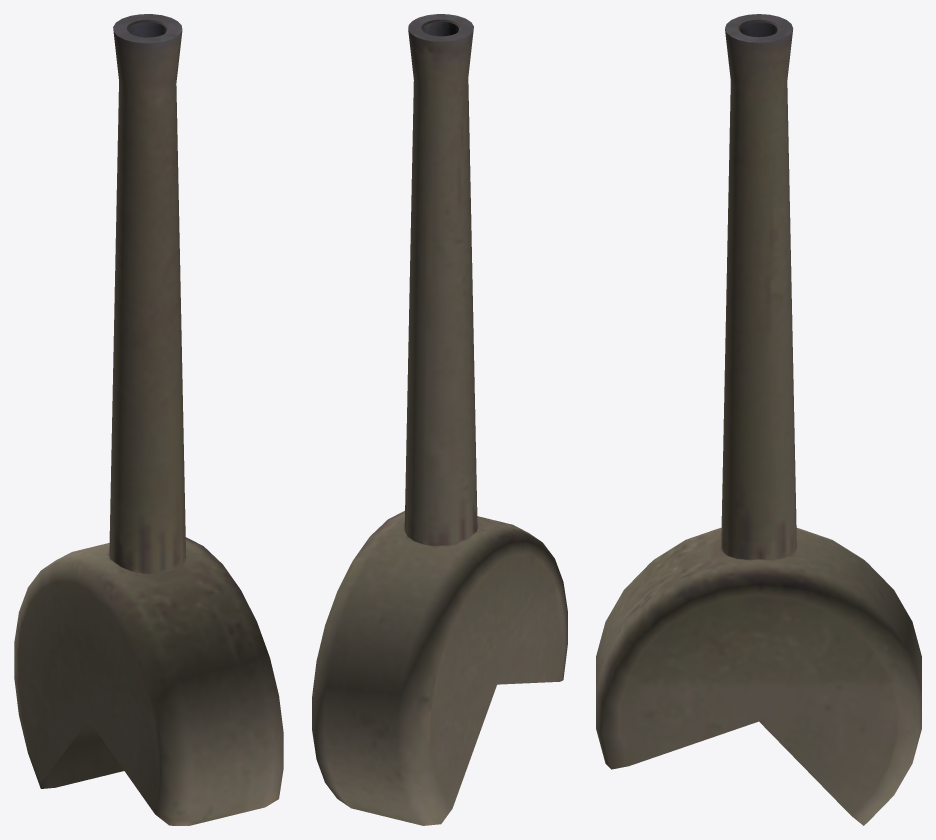
Rendered from Gun_02.glb.
3 views of the same model, side by side, from view 1: azimuth 30°, elevation 25°; view 2: azimuth 150°, elevation 25°; view 3: azimuth 270°, elevation 25° (orthographic). The views are drawn at different scales.
Parts seen in each view (by area): view 1: set_0_group_0; view 2: set_0_group_0; view 3: set_0_group_0.
Boxes of the visible parts, box(x1,y1,x2,y2) form: set_0_group_0: box(14, 14, 283, 825); set_0_group_0: box(312, 14, 567, 825); set_0_group_0: box(596, 14, 921, 825).
Bounding box in the file's own units: 0.272 × 1.7 × 0.6497.
1 material, 1 textured.
